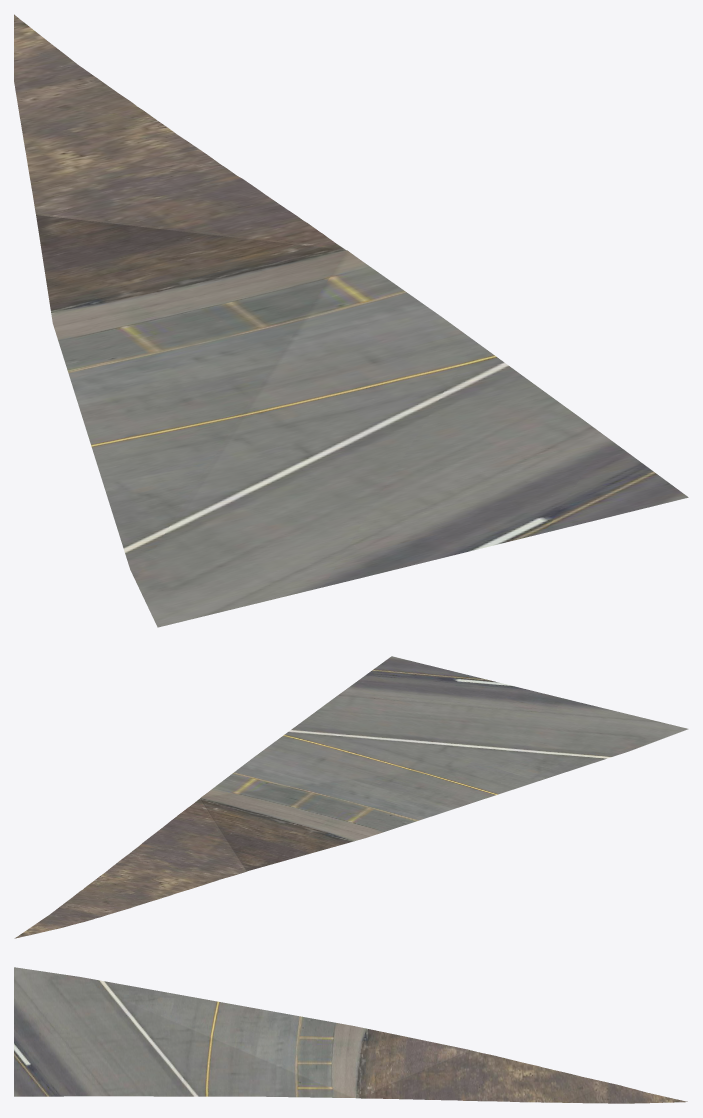
The model's file is roads_context_18.glb.
3 renders of one model, top to bottom at view 1: azimuth 30°, elevation 25°; view 2: azimuth 150°, elevation 25°; view 3: azimuth 270°, elevation 25°, orthographic. The views are drawn at different scales.
Parts seen in each view (by area): view 1: I082501800001062A0.001; view 2: I082501800001062A0.001; view 3: I082501800001062A0.001.
Boxes of the visible parts, box(x1,y1,x2,y2) form: I082501800001062A0.001: box(14, 14, 688, 627); I082501800001062A0.001: box(14, 656, 688, 938); I082501800001062A0.001: box(14, 967, 687, 1103).
Bounding box in the file's own units: 67.73 × 1.81 × 149.
Materials: 1 (1 with a texture image).
